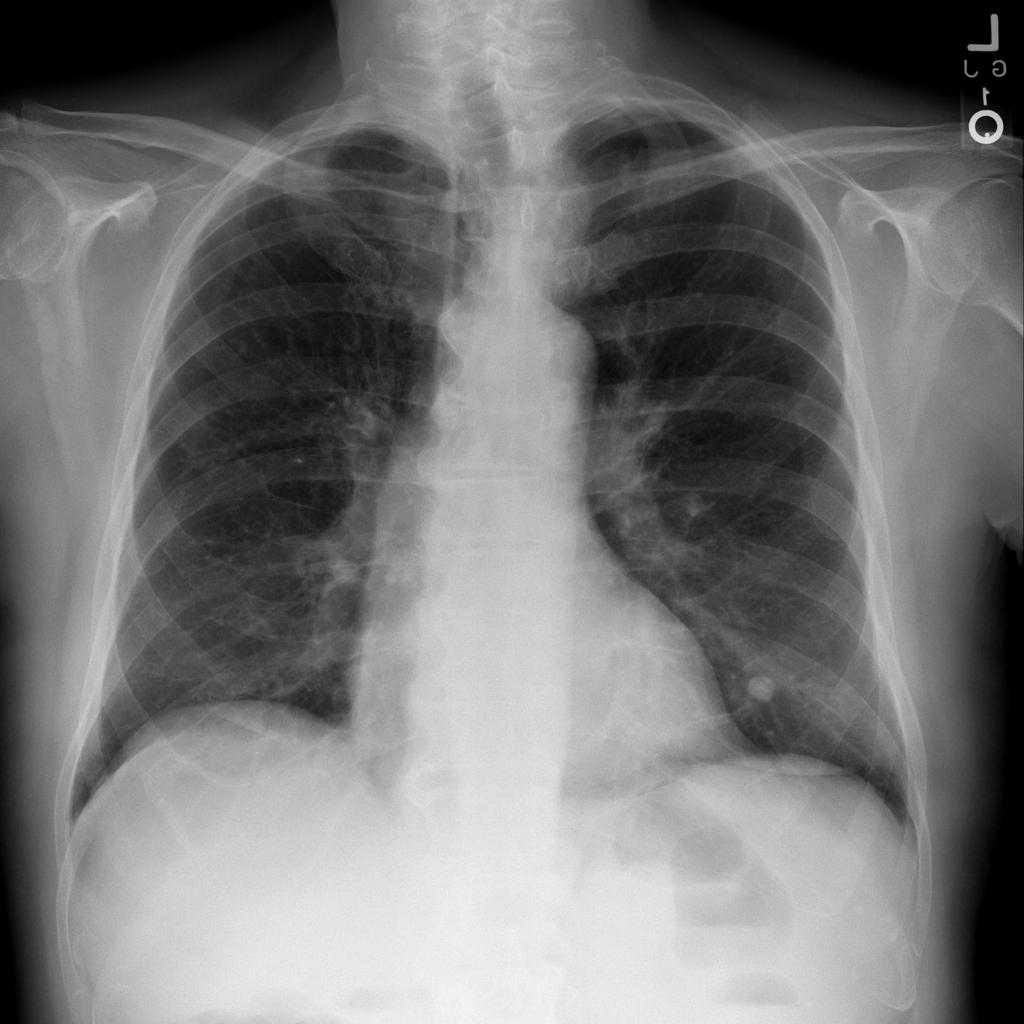nodule: (734, 660, 790, 707)
